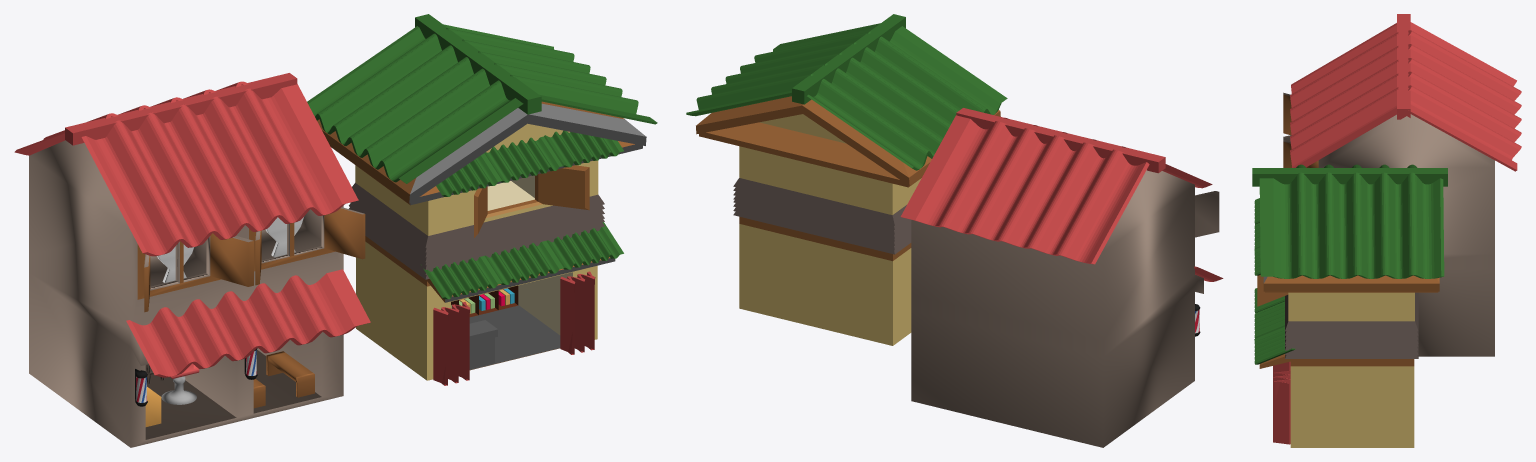
File: Bshops.fbx
3 renders of one model, left to right at view 1: azimuth 30°, elevation 25°; view 2: azimuth 150°, elevation 25°; view 3: azimuth 270°, elevation 25°, orthographic. The views are drawn at different scales.
Parts seen in each view (by area): view 1: Plane, Cube; view 2: Plane, Cube; view 3: Cube, Plane.
Boxes of the visible parts, <box> form: Plane: <box>14,73,370,447</box>; Cube: <box>307,14,657,385</box>; Plane: <box>900,108,1223,447</box>; Cube: <box>686,14,1007,345</box>; Cube: <box>1252,164,1447,447</box>; Plane: <box>1283,14,1521,356</box>.
Bounding box in the file's own units: 11037 × 5981 × 5816.
